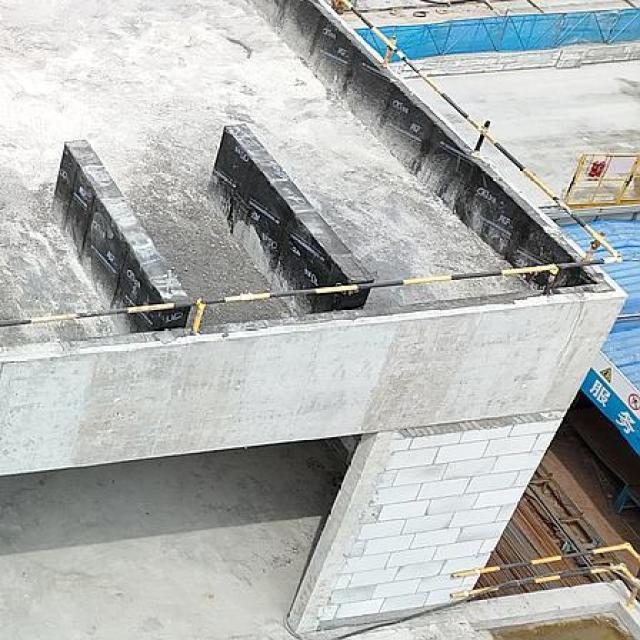edge_guardrail: (0, 0, 627, 339), (450, 540, 640, 610)
